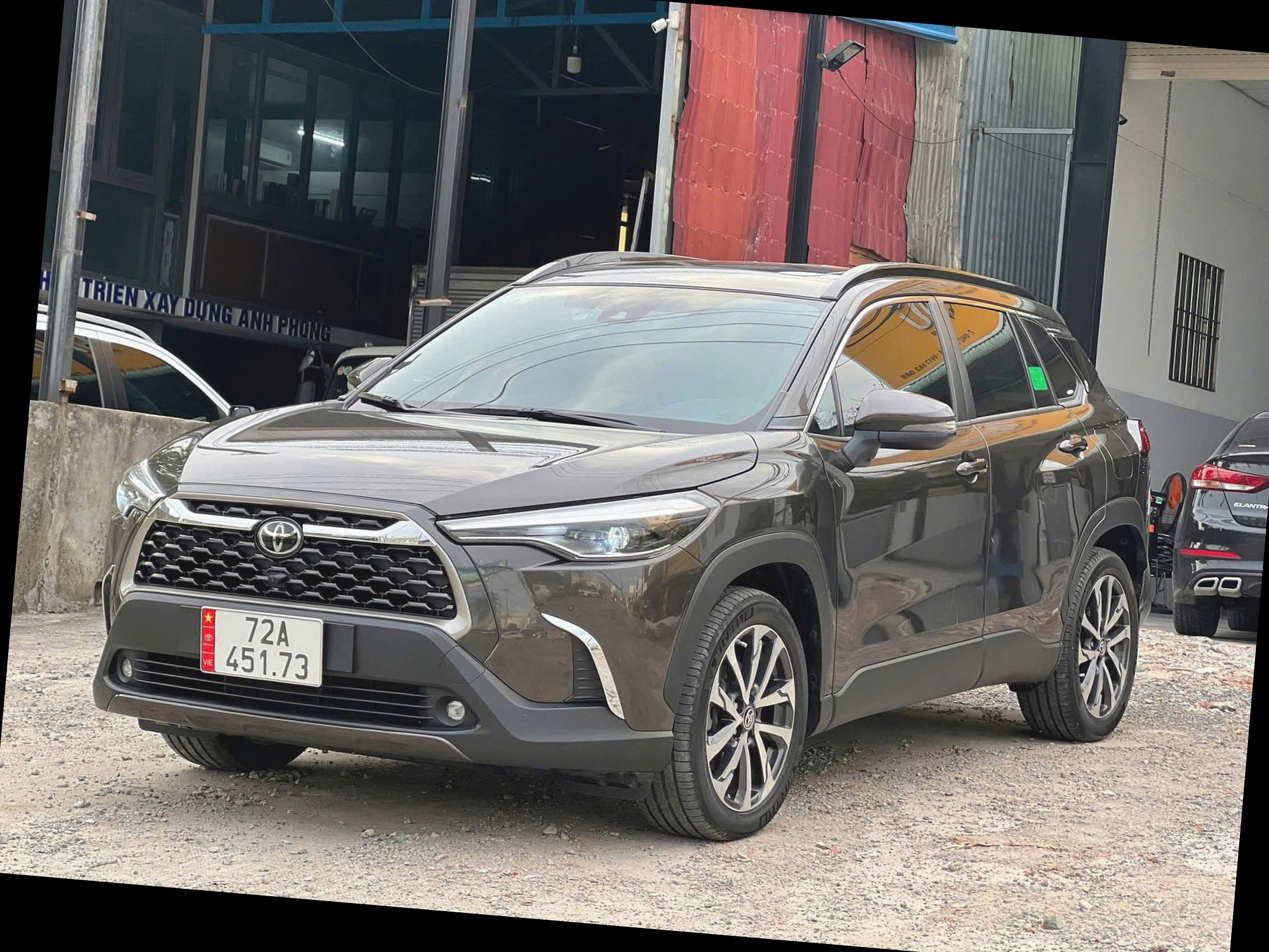Bien-so: (158, 662, 297, 754)
